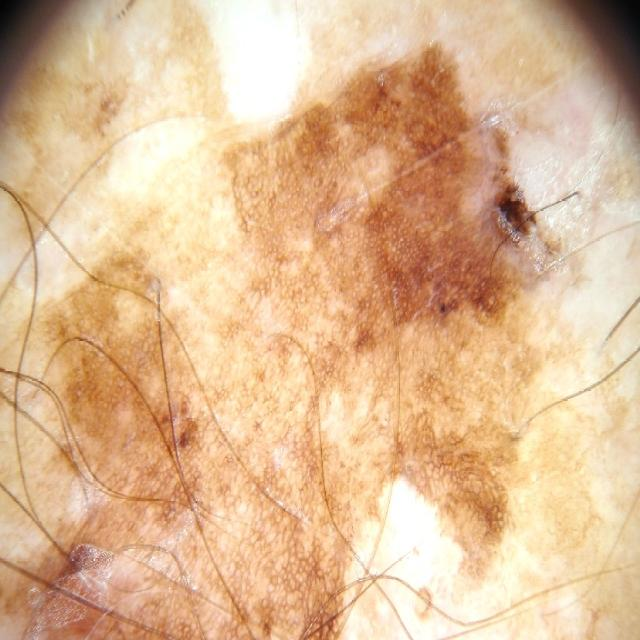Melanoma: (152, 113, 467, 590)
